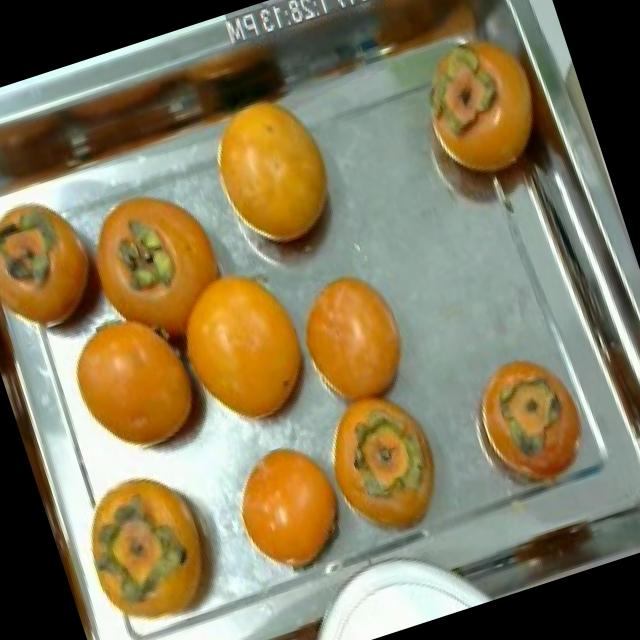Fruit: (146, 240, 341, 473), (47, 279, 235, 490), (63, 438, 258, 640), (179, 70, 361, 276), (62, 162, 245, 354), (200, 409, 377, 606), (300, 369, 469, 565), (390, 8, 560, 202), (448, 331, 615, 516), (278, 248, 436, 432), (0, 170, 127, 366)
